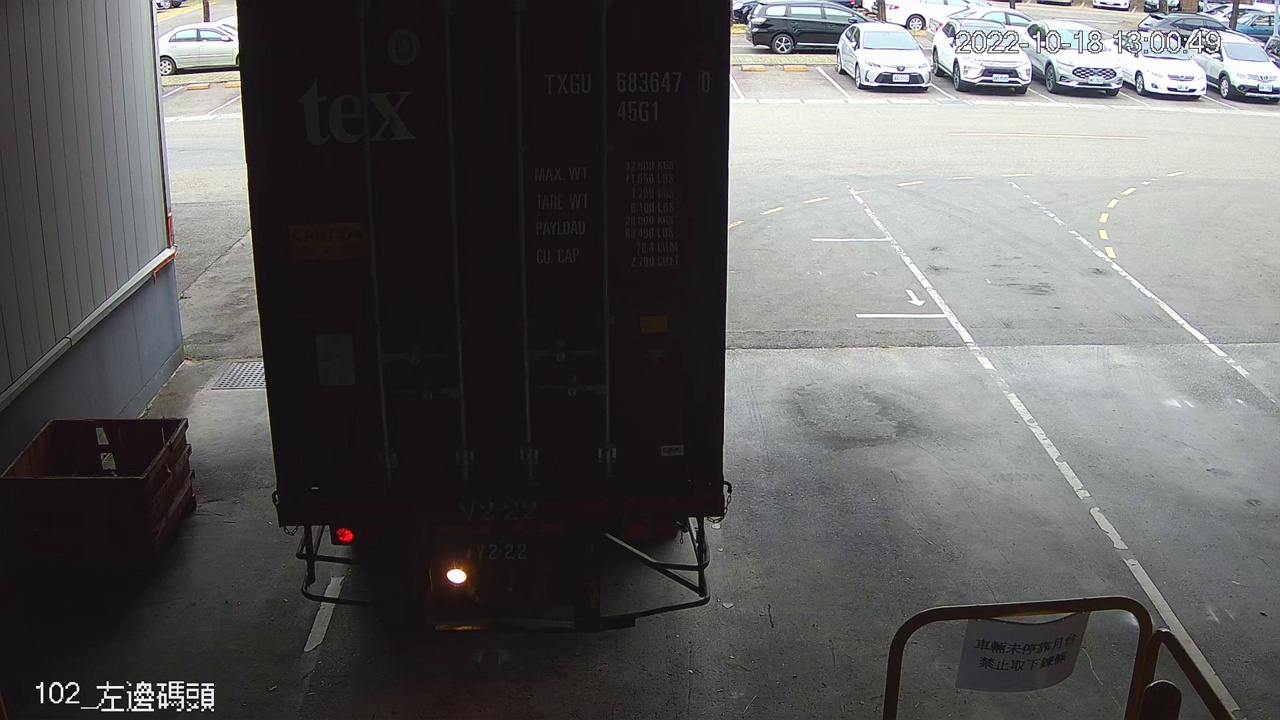container: (530, 58, 722, 132)
